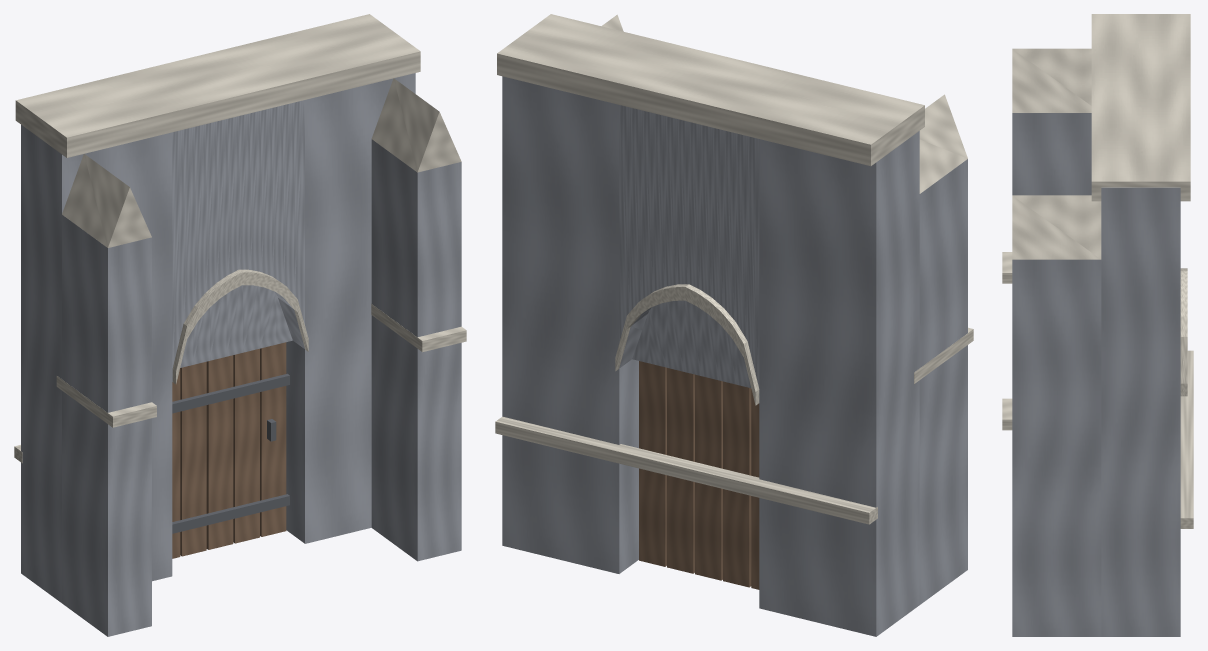
Rendered from vampire-crypt-and-gothic-cathedral-aisle-bay-door-57be41b4__22934.glb.
The picture shows the model from 3 angles, left to right: view 1: azimuth 30°, elevation 25°; view 2: azimuth 150°, elevation 25°; view 3: azimuth 270°, elevation 25°; orthographic projection. The views are drawn at different scales.
Parts seen in each view (by area): view 1: aisle-bay-door, door-leaf/timber, door-leaf/iron; view 2: aisle-bay-door, door-leaf/timber; view 3: aisle-bay-door.
Part boxes in pixels (<box>): aisle-bay-door: <box>14,14,466,636</box>; door-leaf/timber: <box>172,342,286,558</box>; door-leaf/iron: <box>172,373,289,533</box>; aisle-bay-door: <box>495,14,973,636</box>; door-leaf/timber: <box>639,361,759,589</box>; aisle-bay-door: <box>1002,14,1193,636</box>.
Size of the model in its own units: 4 by 5.07 by 1.93.
Materials: 4 (3 with a texture image).
